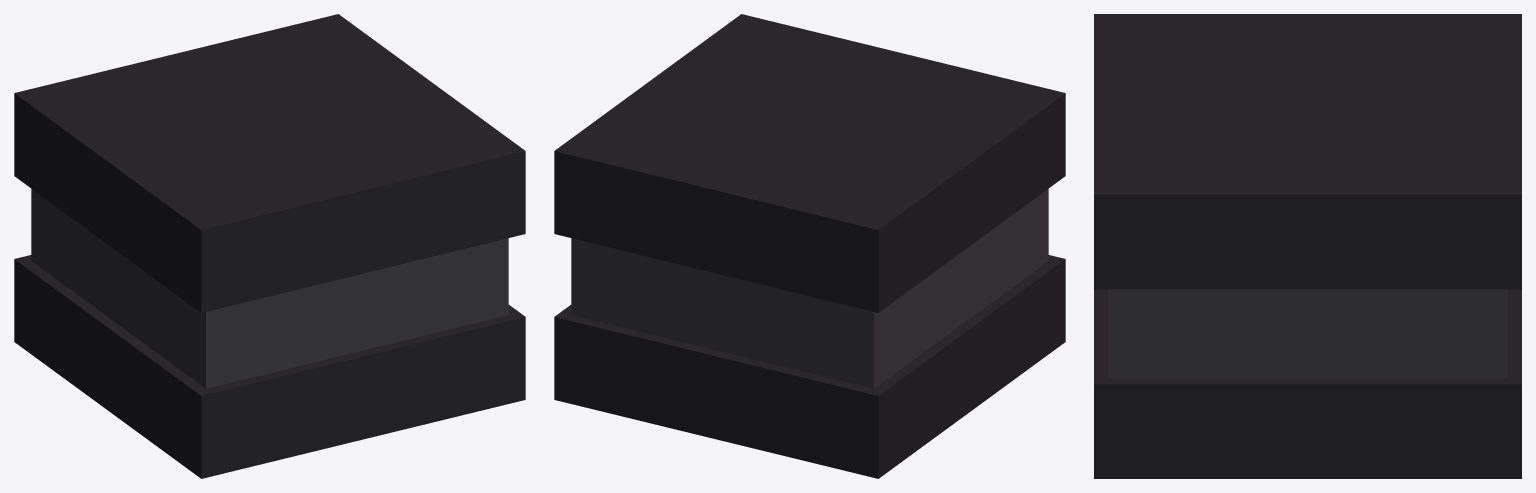
File: tyres.glb
3 views of the same model, side by side, from view 1: azimuth 30°, elevation 25°; view 2: azimuth 150°, elevation 25°; view 3: azimuth 270°, elevation 25° (orthographic). The views are drawn at different scales.
Parts seen in each view (by area): view 1: tyres; view 2: tyres; view 3: tyres.
Part boxes in pixels (bbox=[...]): tyres: bbox=[14, 14, 525, 478]; tyres: bbox=[554, 14, 1065, 478]; tyres: bbox=[1094, 14, 1521, 478].
Size of the model in its own units: 0.9 by 0.66 by 0.9.
1 material, 1 textured.
